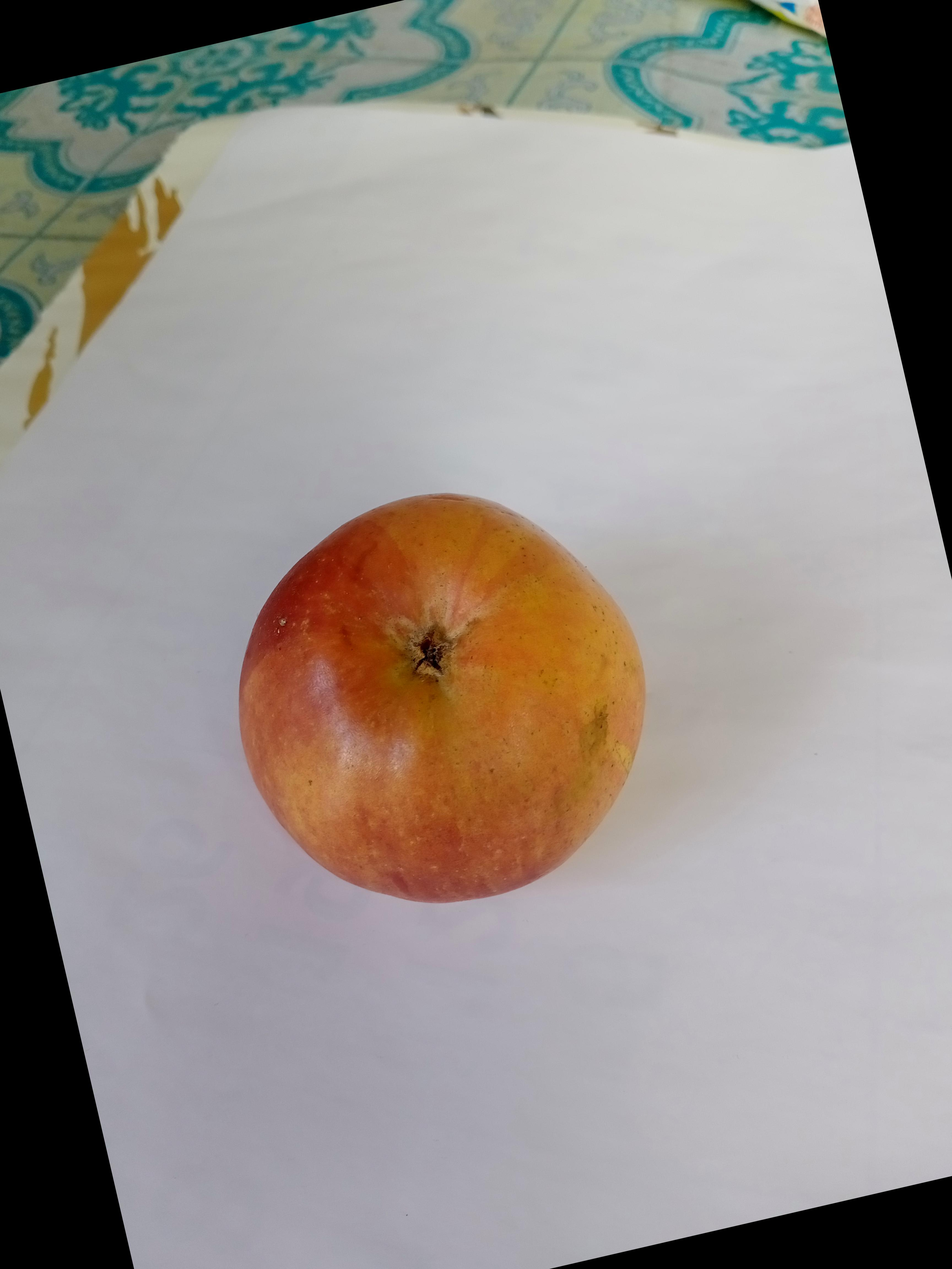Apple Ripe: (18, 587, 535, 1120)
